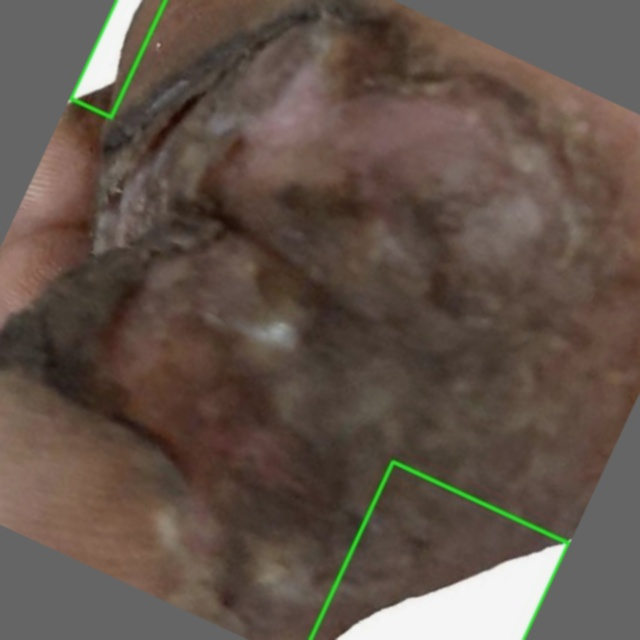Contact Dermatitis: (310, 461, 568, 639)
